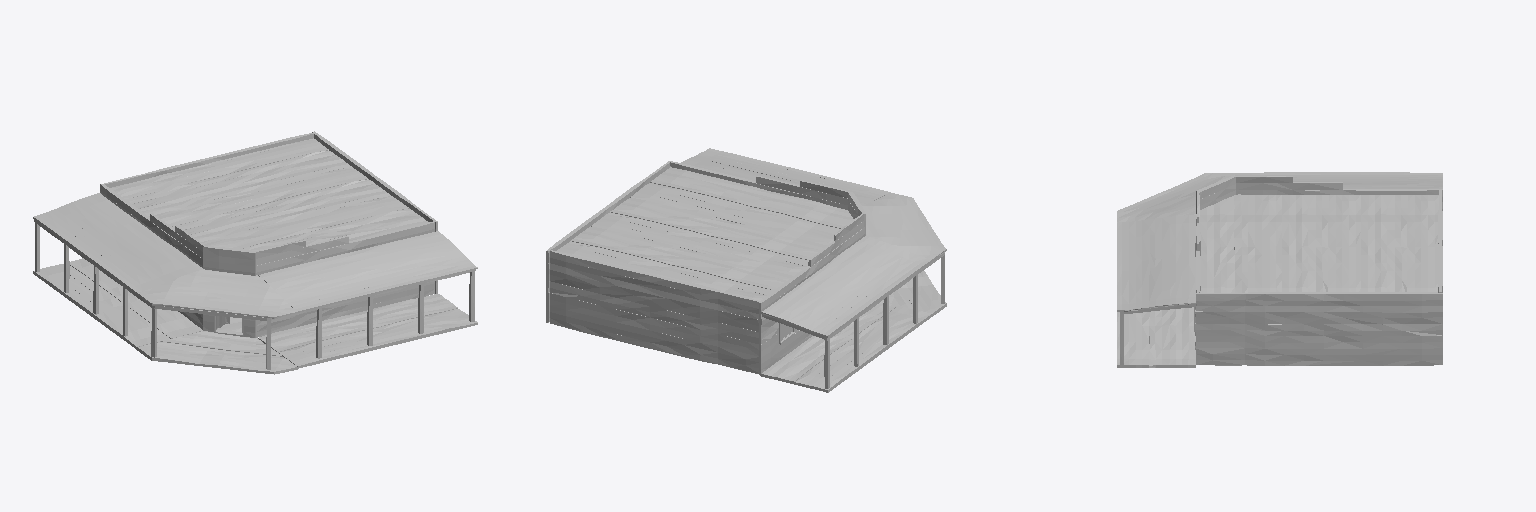
Rendered from Saloon_LOD1.obj.
The picture shows the model from 3 angles: view 1: azimuth 30°, elevation 25°; view 2: azimuth 150°, elevation 25°; view 3: azimuth 270°, elevation 25°; orthographic projection.
Parts seen in each view (by area): view 1: WildWest_Saloon_Porch, WildWest_Saloon_Ceiling, WildWest_Saloon_Building; view 2: WildWest_Saloon_Porch, WildWest_Saloon_Ceiling, WildWest_Saloon_Building; view 3: WildWest_Saloon_Ceiling, WildWest_Saloon_Building, WildWest_Saloon_Porch.
Part boxes in pixels (x1,y1,x2,y2): WildWest_Saloon_Porch: (33,193,477,374); WildWest_Saloon_Ceiling: (110,138,427,337); WildWest_Saloon_Building: (100,131,437,337); WildWest_Saloon_Porch: (681,148,946,392); WildWest_Saloon_Ceiling: (550,167,853,374); WildWest_Saloon_Building: (546,161,865,373); WildWest_Saloon_Ceiling: (1200,194,1438,365); WildWest_Saloon_Building: (1194,175,1442,365); WildWest_Saloon_Porch: (1117,172,1442,367).
Size of the model in its own units: 14.16 by 4.22 by 14.16.